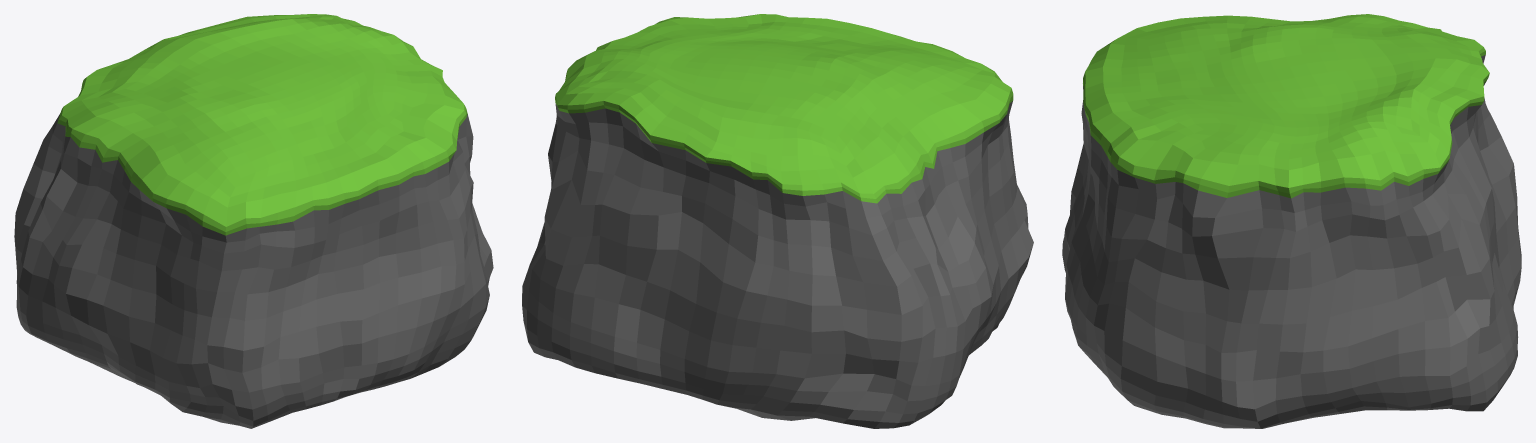
File: boulder5.fbx
The picture shows the model from 3 angles, left to right: view 1: azimuth 30°, elevation 25°; view 2: azimuth 150°, elevation 25°; view 3: azimuth 270°, elevation 25°; orthographic projection. The views are drawn at different scales.
Parts seen in each view (by area): view 1: Cube.002; view 2: Cube.002; view 3: Cube.002.
Part boxes in pixels (box(x1,y1,x2,y2)): Cube.002: box(14, 14, 493, 428); Cube.002: box(522, 14, 1033, 428); Cube.002: box(1062, 14, 1521, 428).
Bounding box in the file's own units: 383 × 254 × 337.
